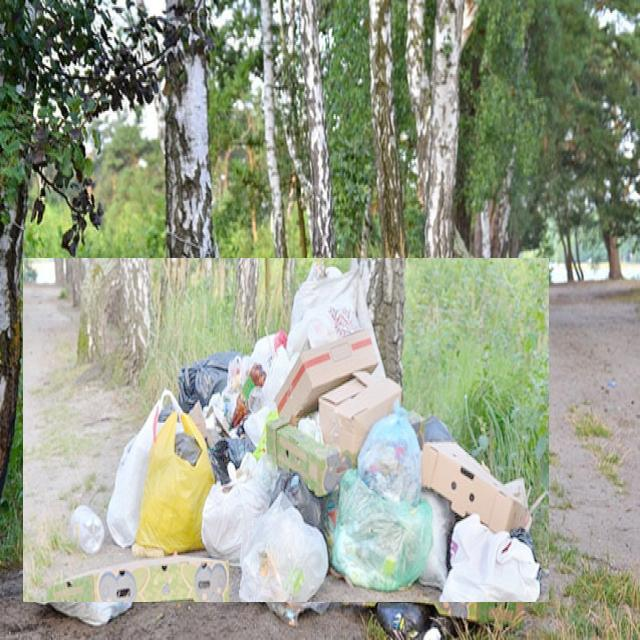dumping: (23, 258, 549, 602)
